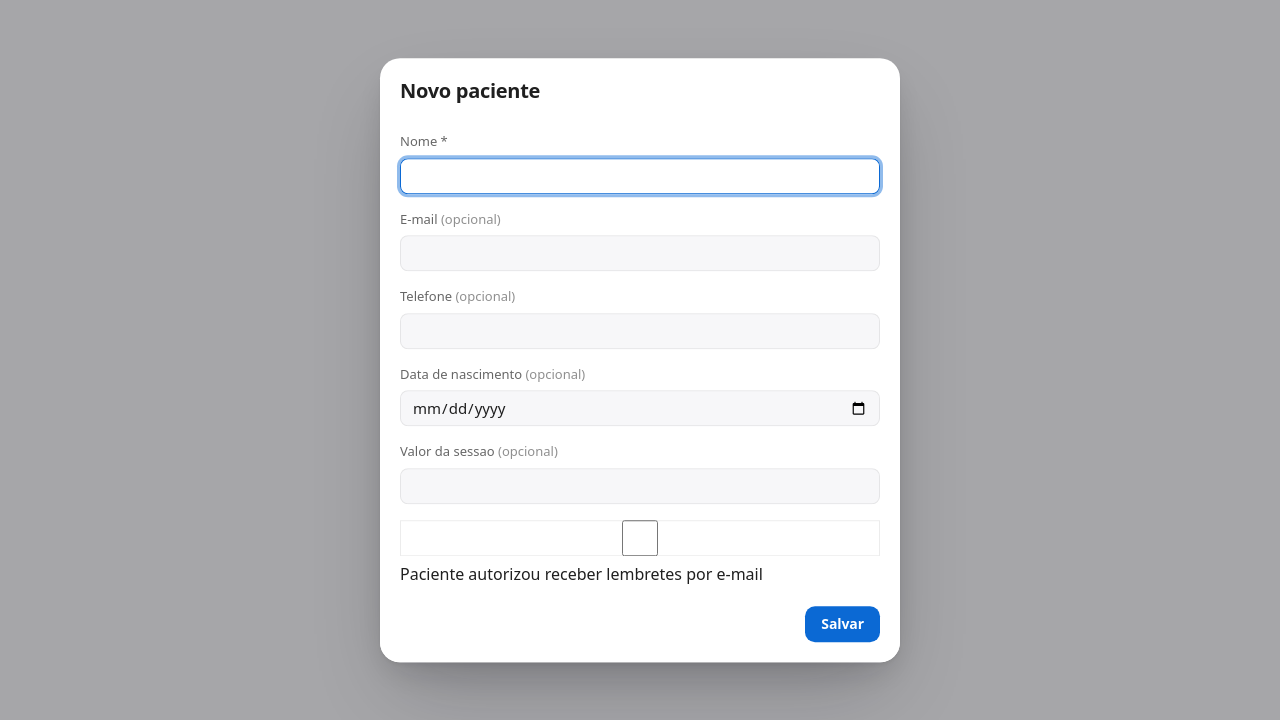
Test case: dialogo de paciente › caixa marcada sem e-mail e recusada ANTES do envio — 5.4
The width and height of the screenshot is (1280, 720).
In the field labelled "Nome *": (640,176) x1=400 y1=158 x2=880 y2=194, type "Helena Vaz"
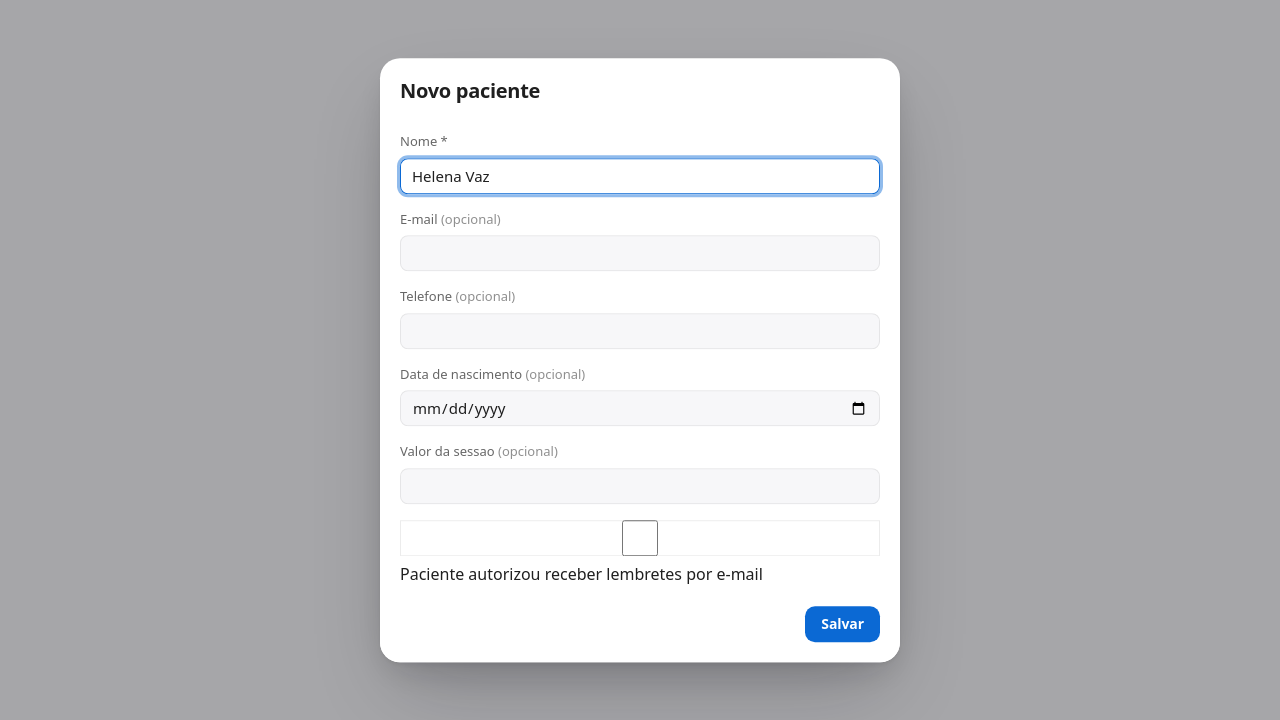
Click the checkbox labelled "Paciente autorizou receber lembretes por e-mail": (640,538) x1=400 y1=520 x2=880 y2=556
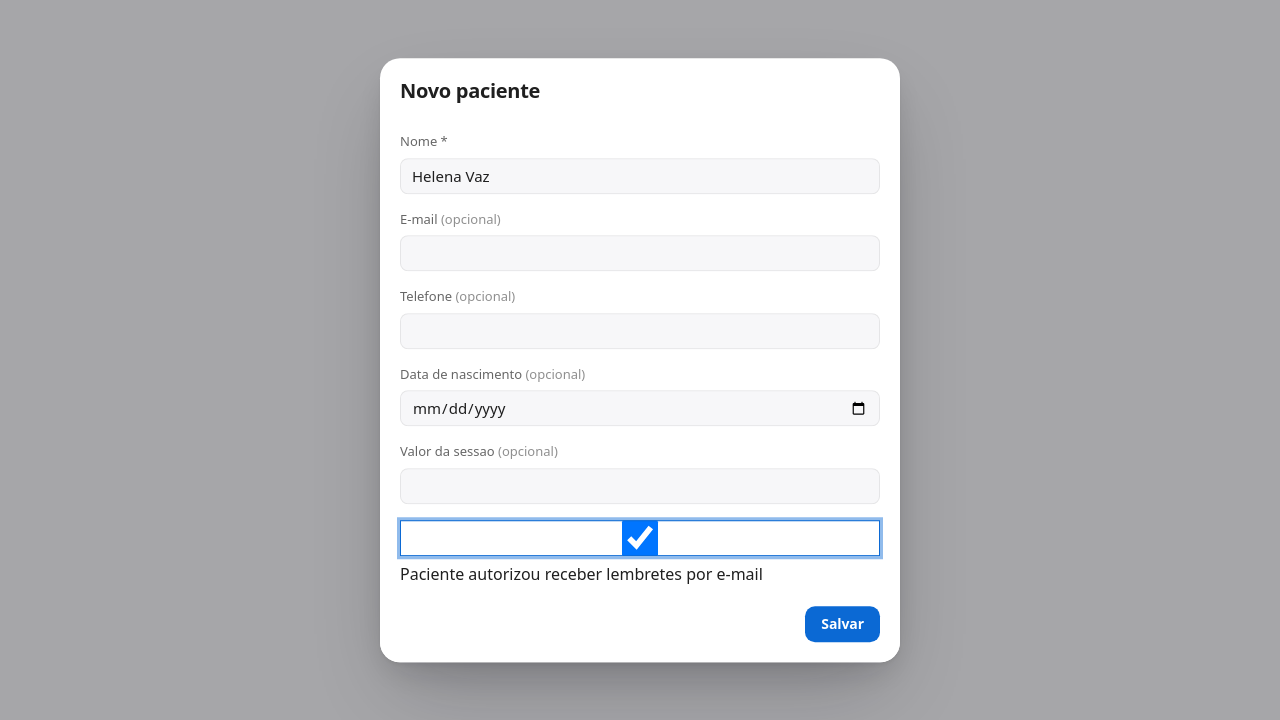
Click the button "Salvar": (843,624) x1=805 y1=606 x2=880 y2=642
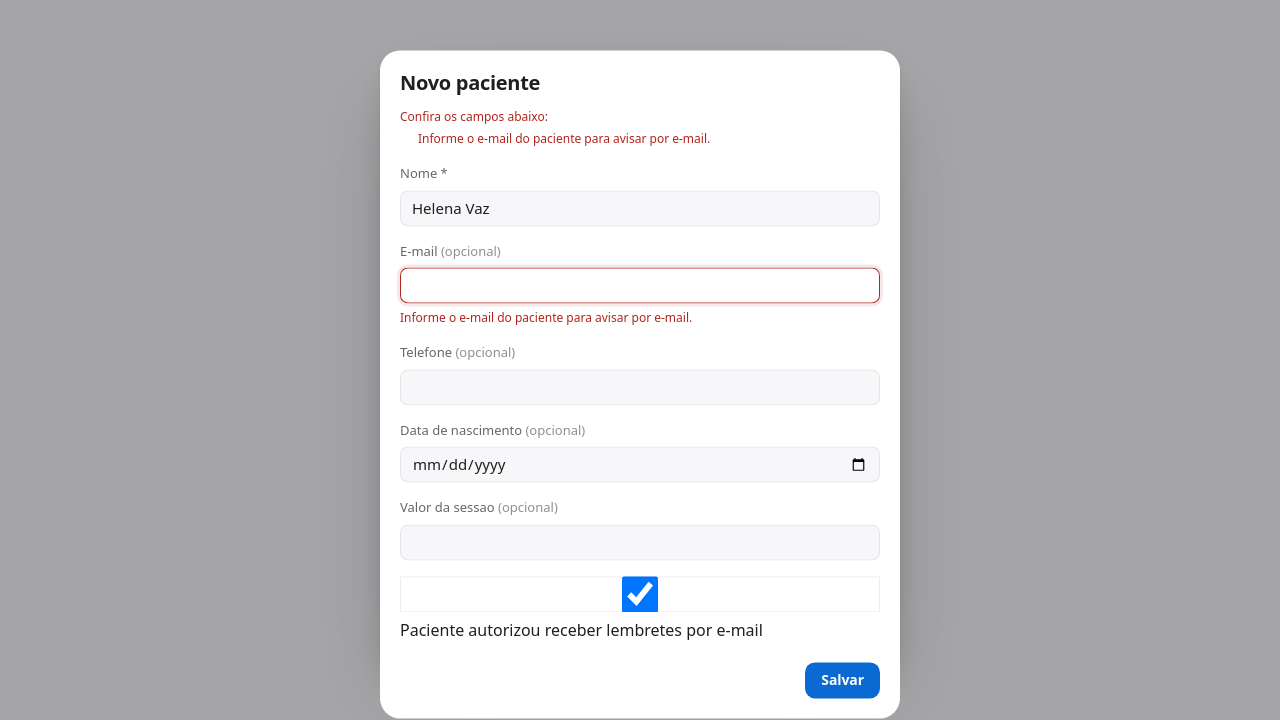
Check: the text "Informe o e-mail do paciente para avisar por e-mail." is shown, box x1=400 y1=309 x2=692 y2=326
